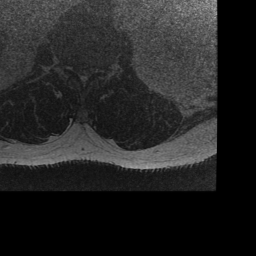CCS_normal: (79, 58, 86, 94)
LFS_severe_stenosis: (93, 57, 102, 79)
LLS_normal: (86, 58, 93, 84)
RFS_stenosis: (64, 55, 72, 78)
RLS_stenosis: (72, 57, 79, 83)
